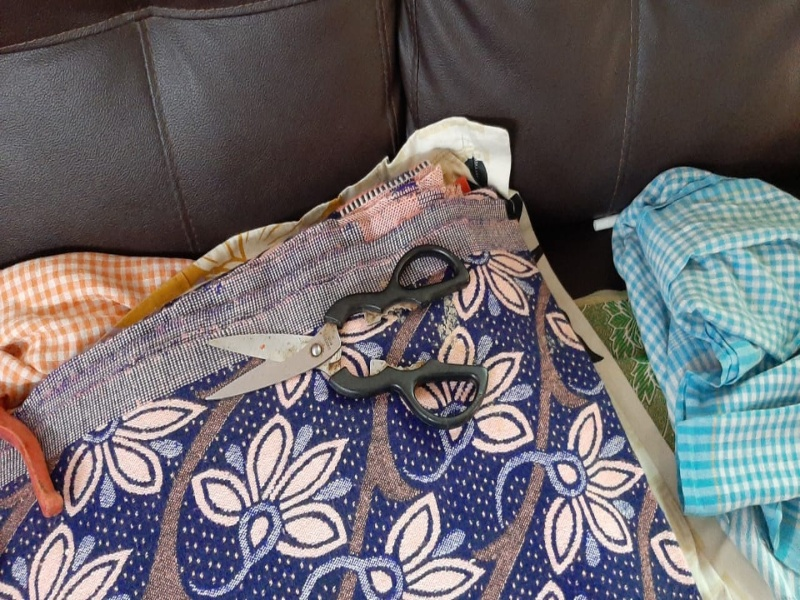scissor: (204, 239, 493, 437)
